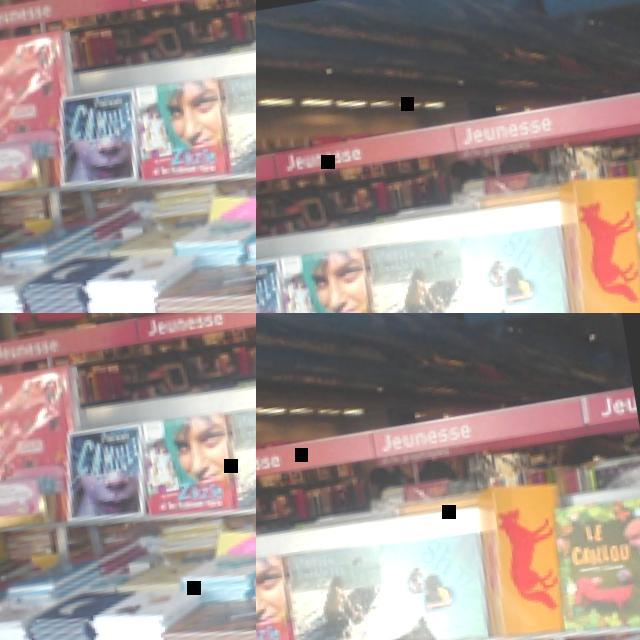machinery: (0, 0, 256, 298)
